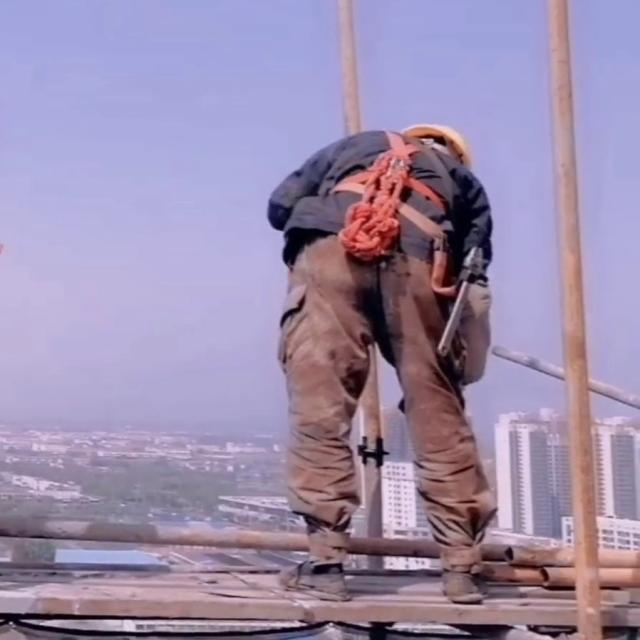Arnes_seguridad: (315, 124, 463, 270)
